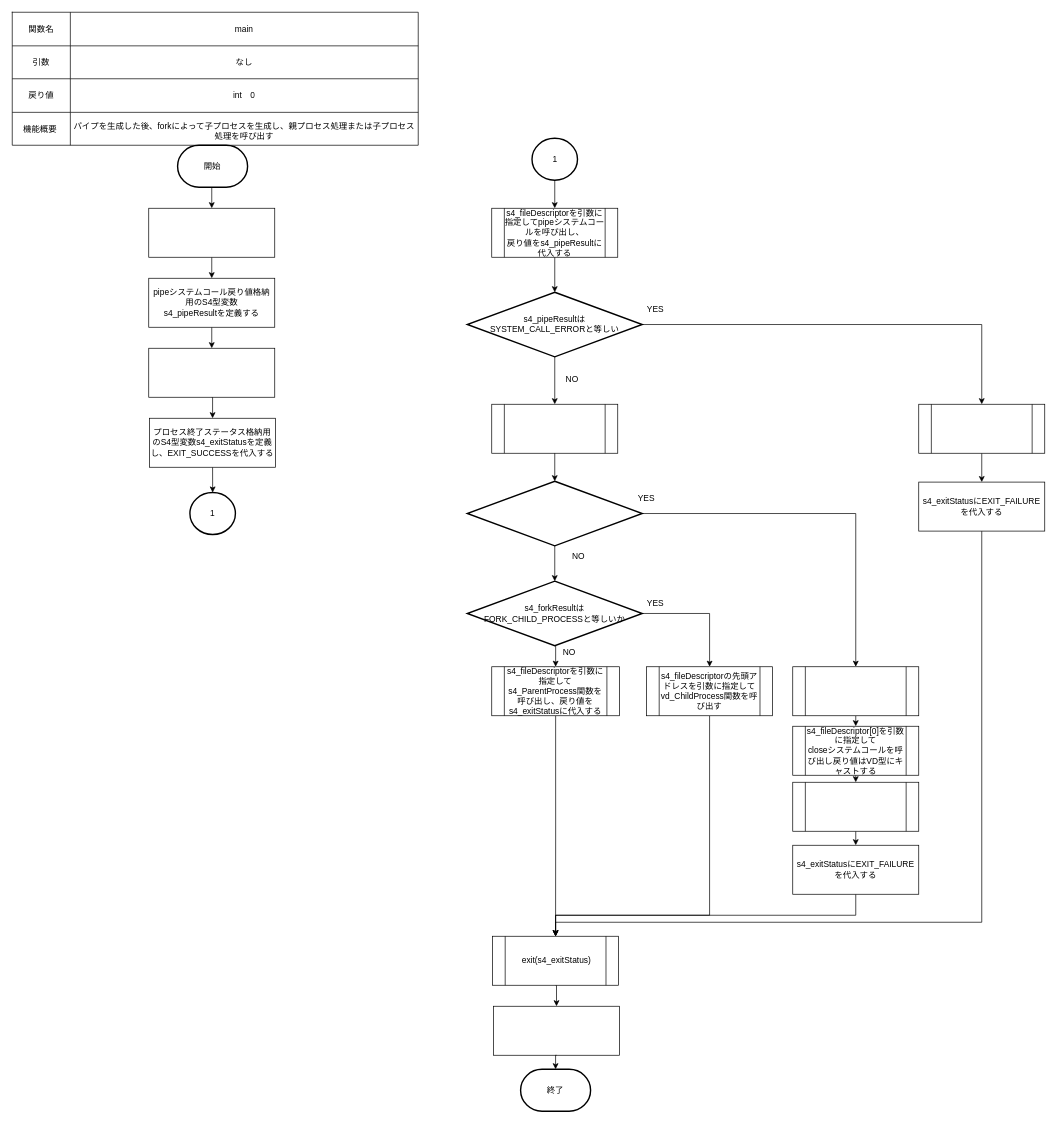
Image size: 1057x1124. Some labels were removed from this diagram. Here are the shapes that lost their labels. From the top down, the centre of each, then its label:
point (211, 232): パイプのファイル記述子格納用のS4型配列 s4_fileDescriptor[2]を 定義 する
point (211, 372): forkシステムコール戻り値格納用のS4型変数 s4_forkResultを定義する
point (554, 428): forkシステムコールを呼び出し、戻り値をs4_forkResultに代入する
point (981, 428): perror("pipe")
point (554, 513): s4_forkResultは SYSTEM_CALL_ERRORと等しいか
point (855, 691): perror("fork")
point (855, 806): s4_fileDescriptor[1] を引数に指定して close システムコールを呼び出し 戻り値はVD型にキャストする
point (556, 1030): 0を返す
